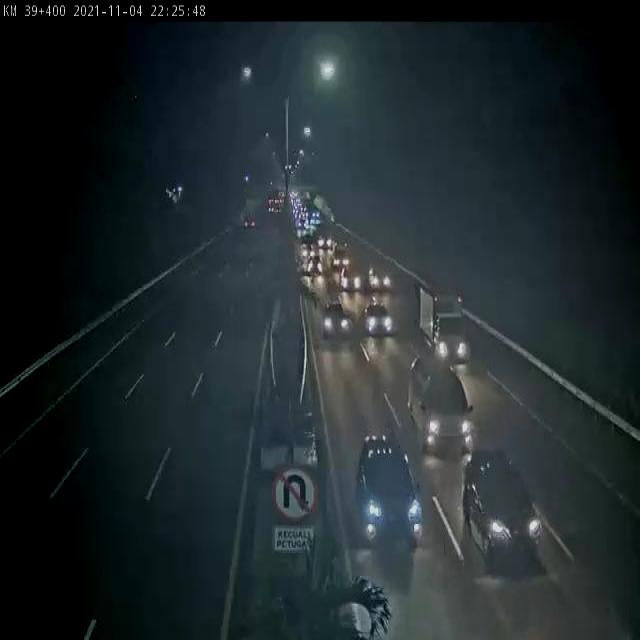Car: (462, 451, 544, 570), (356, 432, 426, 549), (320, 302, 350, 337), (364, 304, 393, 338), (369, 266, 392, 291), (341, 266, 362, 292), (307, 255, 323, 274)
Truck: (420, 286, 471, 365)
Van: (408, 354, 476, 454)
